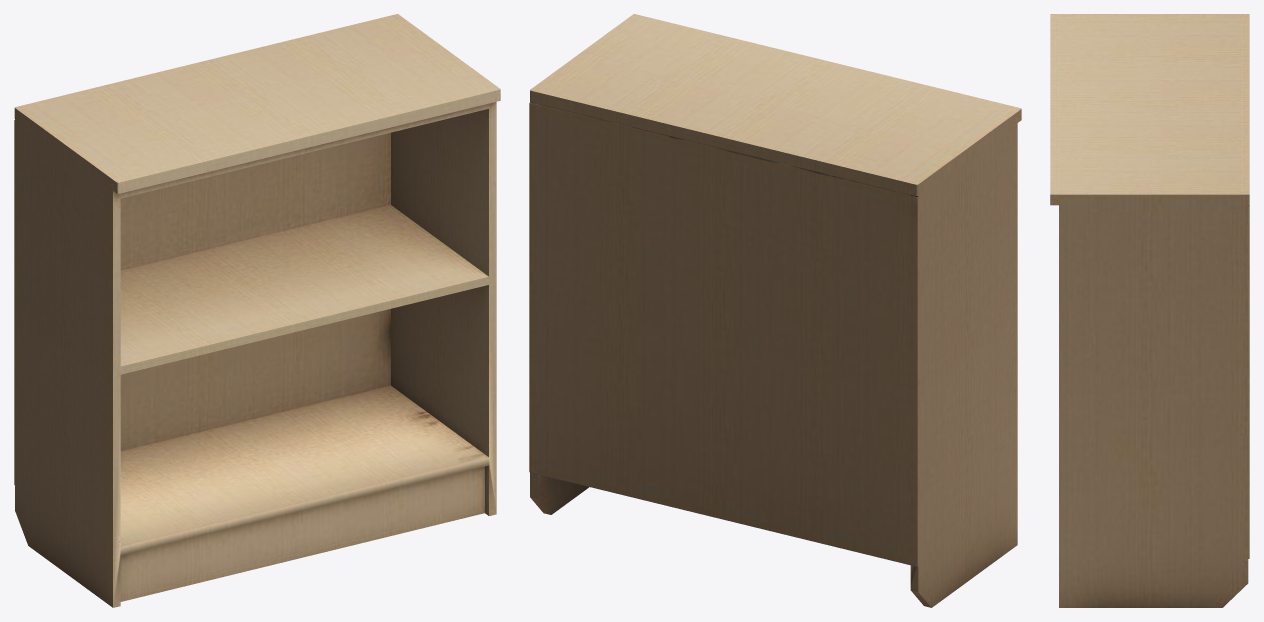
3 views of the same model, side by side, from view 1: azimuth 30°, elevation 25°; view 2: azimuth 150°, elevation 25°; view 3: azimuth 270°, elevation 25° (orthographic). The views are drawn at different scales.
Parts seen in each view (by area): view 1: Shelves_Oak_Short_Standard; view 2: Shelves_Oak_Short_Standard; view 3: Shelves_Oak_Short_Standard.
Part boxes in pixels (box(x1,y1,x2,y2)): Shelves_Oak_Short_Standard: box(14, 14, 500, 607); Shelves_Oak_Short_Standard: box(529, 14, 1021, 607); Shelves_Oak_Short_Standard: box(1050, 14, 1249, 607).
Size of the model in its own units: 1.28 by 1.37 by 0.5994.
Materials: 1 (1 with a texture image).
